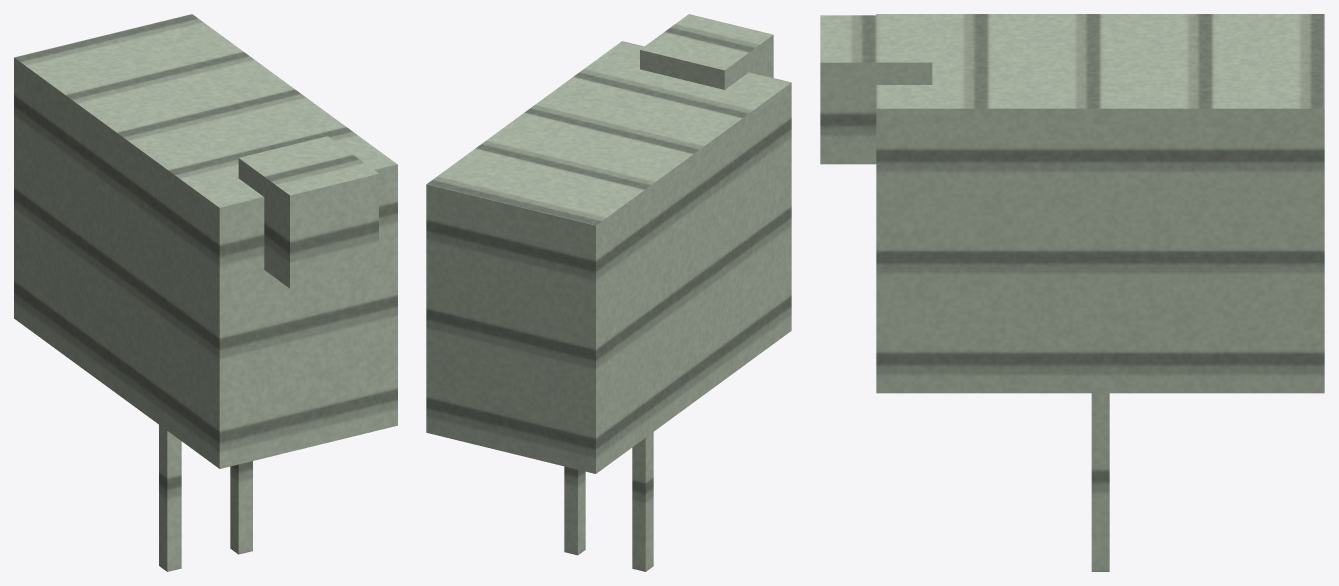
The model's file is animal_canada_goose.glb.
3 renders of one model, left to right at view 1: azimuth 30°, elevation 25°; view 2: azimuth 150°, elevation 25°; view 3: azimuth 270°, elevation 25°, orthographic. The views are drawn at different scales.
Parts seen in each view (by area): view 1: animal_canada_goose-col; view 2: animal_canada_goose-col; view 3: animal_canada_goose-col.
Boxes of the visible parts, x1,y1,x2,y2 form: animal_canada_goose-col: [14, 14, 397, 571]; animal_canada_goose-col: [426, 14, 791, 571]; animal_canada_goose-col: [820, 14, 1324, 571].
Bounding box in the file's own units: 0.25 × 0.6275 × 0.5625.
1 material, 1 textured.
